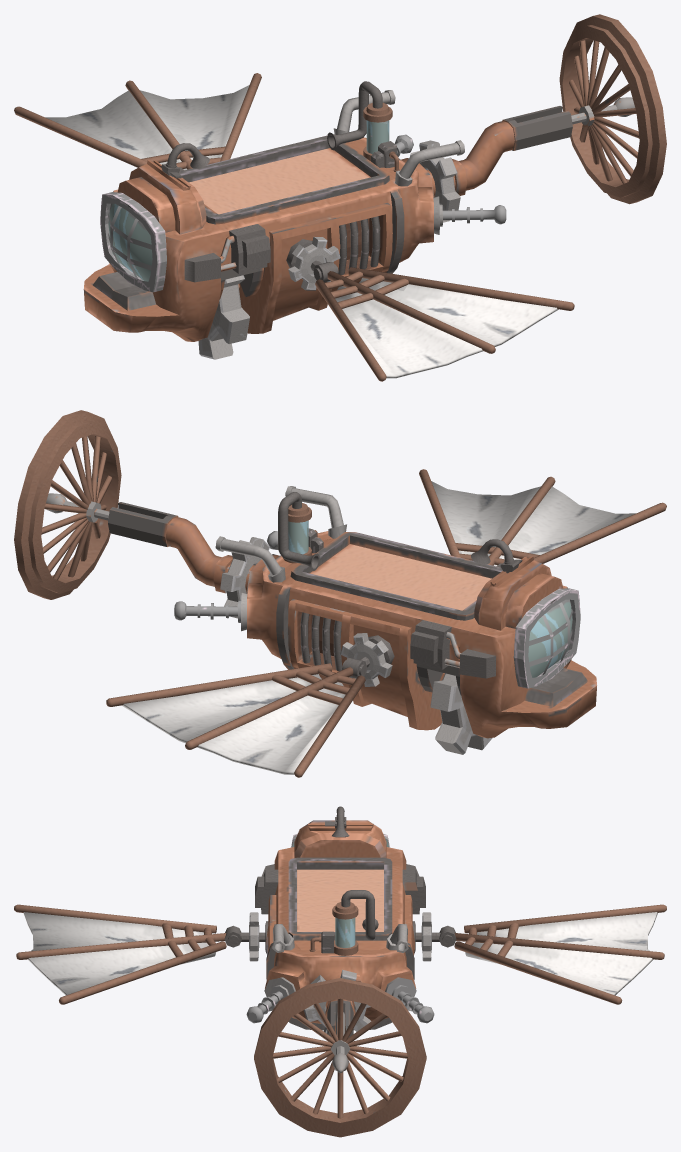
Rendered from airship.fbx.
3 views of the same model, one above another, from view 1: azimuth 30°, elevation 25°; view 2: azimuth 150°, elevation 25°; view 3: azimuth 270°, elevation 25° (orthographic). The views are drawn at different scales.
Visible parts, largest first — view 1: body, wing_l, wheel, wing_r, gear_bottom, exhaust, capacitor, gear_back, gear_sides, dropper; view 2: body, wing_r, wheel, wing_l, gear_bottom, exhaust, gear_sides, gear_back, capacitor, dropper; view 3: body, wheel, wing_r, wing_l, capacitor, gear_sides, exhaust, gear_back.
Boxes of the visible parts, left/top/right/bottom form: body: left=83, top=81, right=635, bottom=341; wing_l: left=313, top=262, right=574, bottom=381; wheel: left=559, top=14, right=666, bottom=204; wing_r: left=14, top=73, right=261, bottom=170; gear_bottom: left=198, top=275, right=249, bottom=359; exhaust: left=333, top=90, right=464, bottom=186; capacitor: left=363, top=102, right=399, bottom=171; gear_back: left=410, top=140, right=460, bottom=222; gear_sides: left=288, top=237, right=340, bottom=290; dropper: left=161, top=143, right=209, bottom=178; body: left=46, top=492, right=596, bottom=738; wing_r: left=106, top=658, right=367, bottom=777; wheel: left=14, top=410, right=121, bottom=599; wing_l: left=419, top=469, right=666, bottom=566; gear_bottom: left=430, top=673, right=492, bottom=754; exhaust: left=215, top=486, right=346, bottom=582; gear_sides: left=340, top=633, right=392, bottom=686; gear_back: left=220, top=537, right=269, bottom=618; capacitor: left=283, top=503, right=323, bottom=563; dropper: left=471, top=539, right=522, bottom=573; body: left=240, top=820, right=440, bottom=1072; wheel: left=254, top=978, right=426, bottom=1137; wing_r: left=439, top=904, right=666, bottom=1004; wing_l: left=14, top=904, right=241, bottom=1004; capacitor: left=309, top=902, right=358, bottom=955; gear_sides: left=249, top=912, right=431, bottom=961; exhaust: left=272, top=924, right=408, bottom=952; gear_back: left=303, top=969, right=371, bottom=1033.
Size of the model in its own units: 1819 by 741 by 2122.
